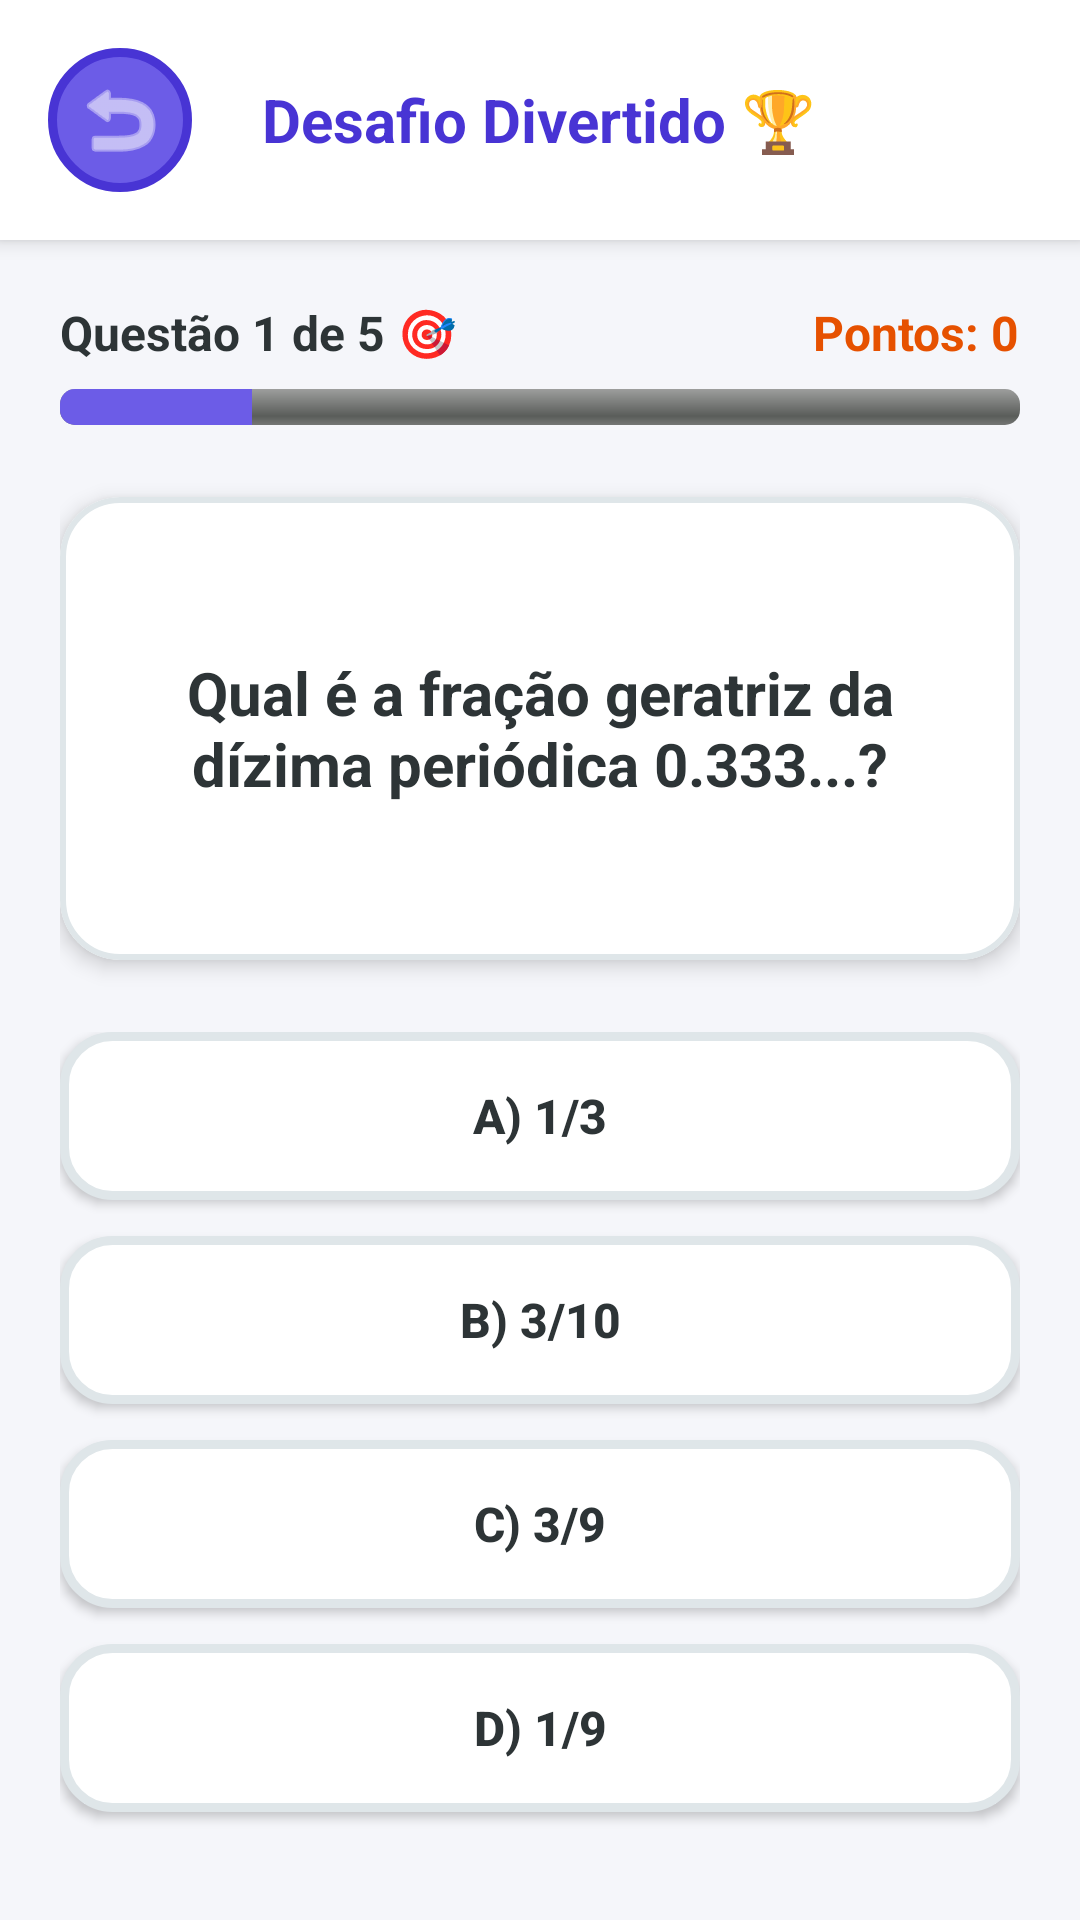

Point at icon controls on the screen. Image size 1080 x 1920, points as (x,y).
Voltar: (120,120)
